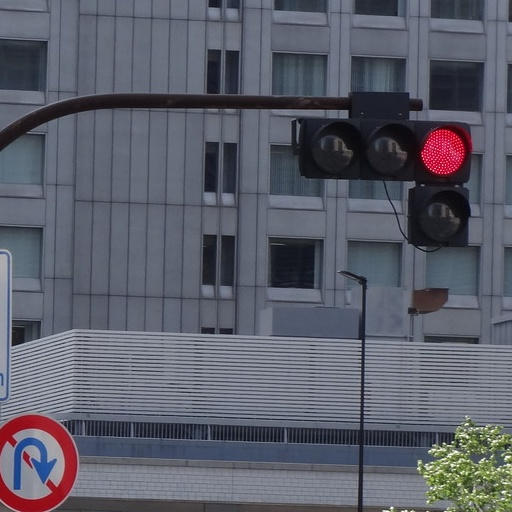Traffic_Signal_Red: (297, 118, 472, 182)
